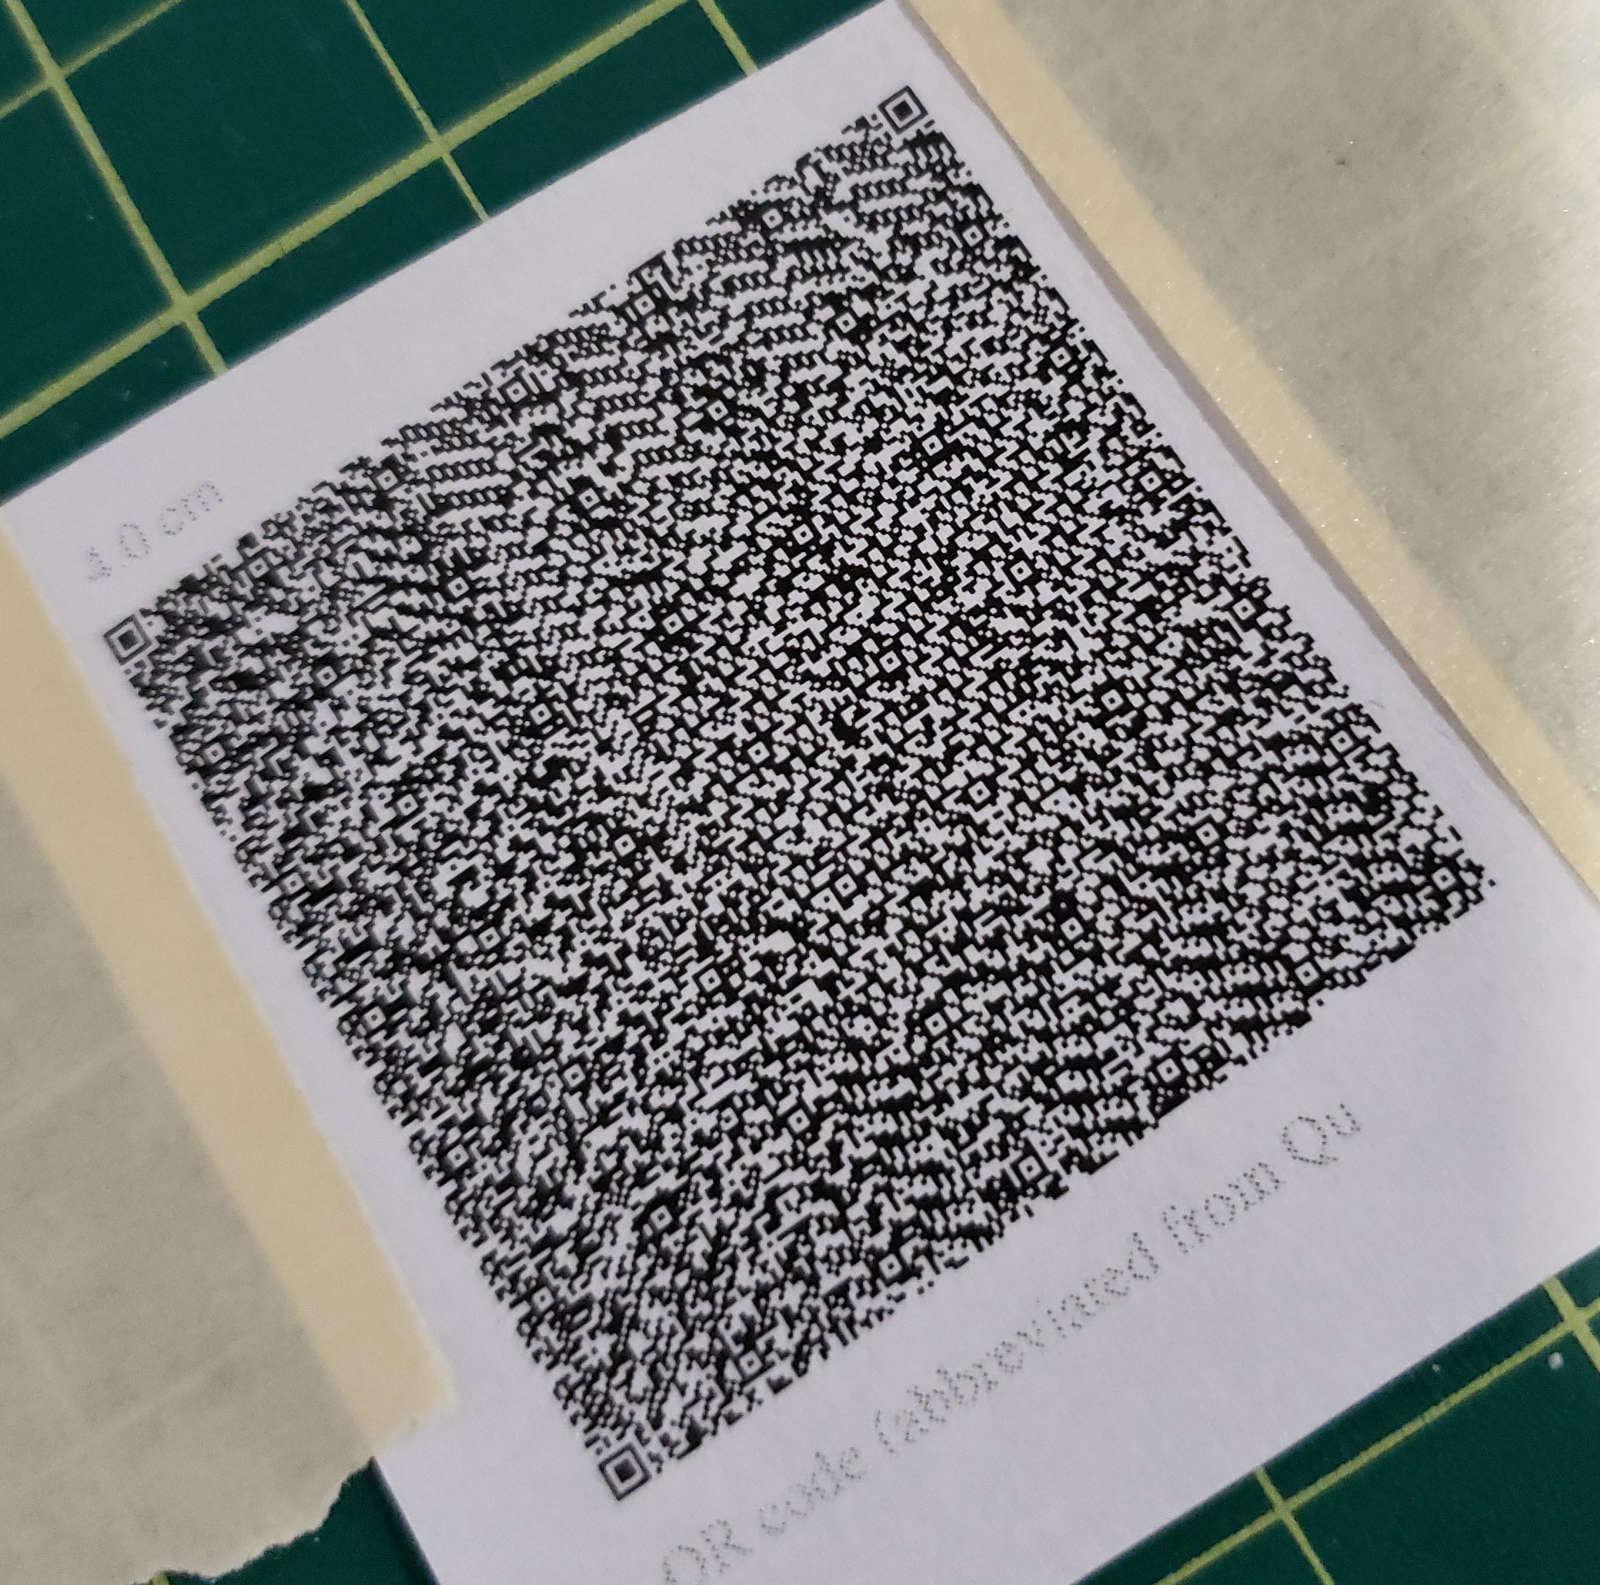QR_CODE: (57, 32, 1529, 1525)
